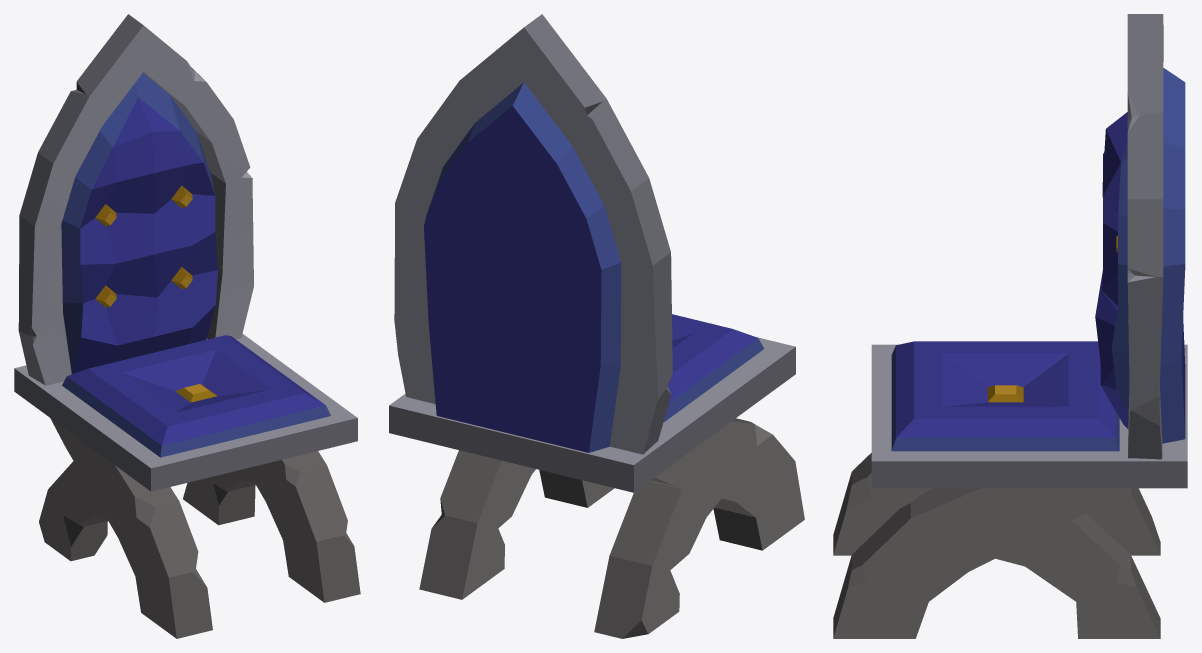
The model's file is Chair_01.glb.
3 renders of one model, left to right at view 1: azimuth 30°, elevation 25°; view 2: azimuth 150°, elevation 25°; view 3: azimuth 270°, elevation 25°, orthographic. The views are drawn at different scales.
Visible parts, largest first — view 1: Chair_01; view 2: Chair_01; view 3: Chair_01.
Boxes of the visible parts, bbox=[...] form: Chair_01: bbox=[14, 14, 360, 638]; Chair_01: bbox=[389, 14, 804, 638]; Chair_01: bbox=[833, 14, 1187, 638].
Size of what is drawn, in the model's own units: 0.9399 by 2.01 by 1.12.
1 material, 1 textured.
